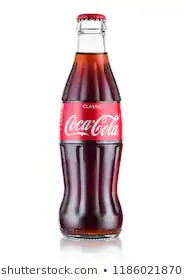coke-glass-bottle: (52, 11, 127, 243)
